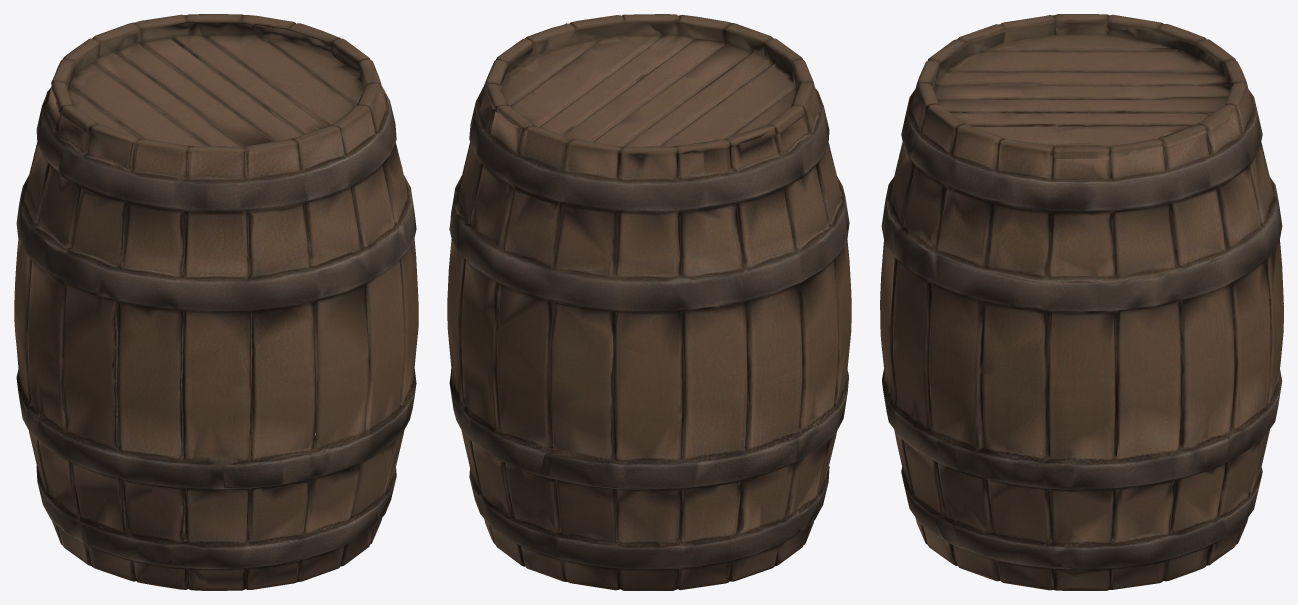
File: Wooden_Barrel.glb
3 views of the same model, side by side, from view 1: azimuth 30°, elevation 25°; view 2: azimuth 150°, elevation 25°; view 3: azimuth 270°, elevation 25° (orthographic).
Parts seen in each view (by area): view 1: tripo_node_0d36af3b-888f-4b3a-9ba8-a47ed0bcac6c; view 2: tripo_node_0d36af3b-888f-4b3a-9ba8-a47ed0bcac6c; view 3: tripo_node_0d36af3b-888f-4b3a-9ba8-a47ed0bcac6c.
Part boxes in pixels (x1=…): tripo_node_0d36af3b-888f-4b3a-9ba8-a47ed0bcac6c: x1=14, y1=14, x2=418, y2=590; tripo_node_0d36af3b-888f-4b3a-9ba8-a47ed0bcac6c: x1=447, y1=14, x2=851, y2=590; tripo_node_0d36af3b-888f-4b3a-9ba8-a47ed0bcac6c: x1=880, y1=14, x2=1283, y2=590.
Size of the model in its own units: 0.8065 by 0.9784 by 0.8112.
Materials: 1 (1 with a texture image).
